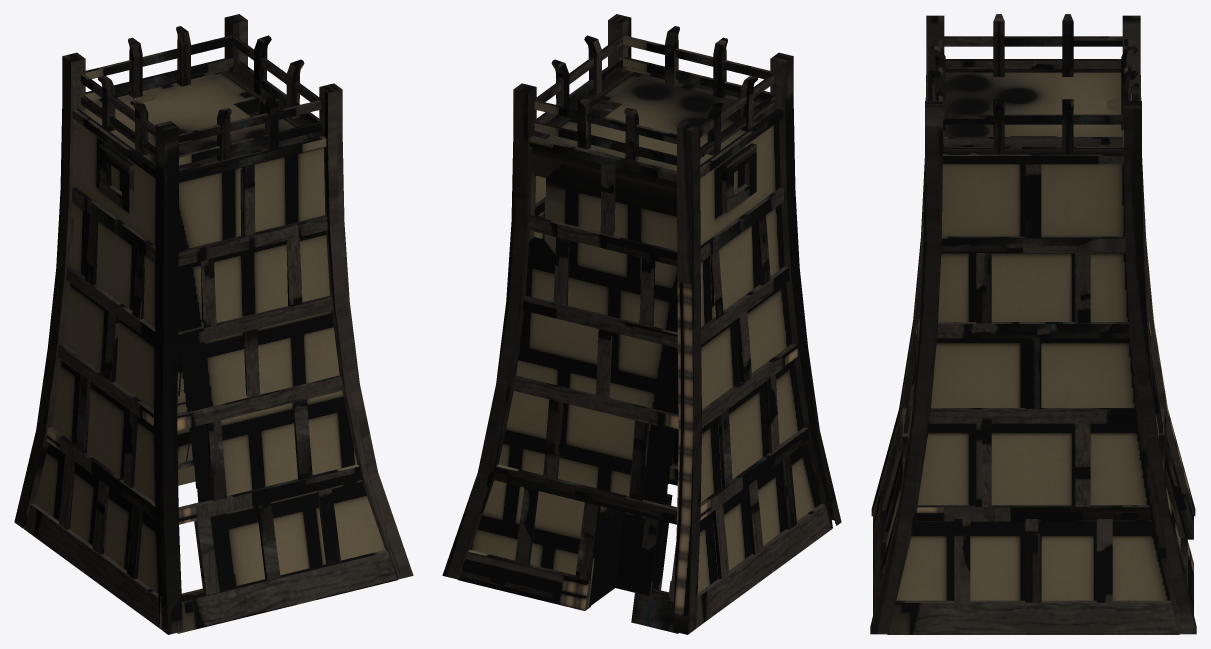
The model's file is MS_Windmill7.fbx.
3 renders of one model, left to right at view 1: azimuth 30°, elevation 25°; view 2: azimuth 150°, elevation 25°; view 3: azimuth 270°, elevation 25°, orthographic. The views are drawn at different scales.
Parts seen in each view (by area): view 1: Cube.005; view 2: Cube.005; view 3: Cube.005.
Part boxes in pixels (box(x1,y1,x2,y2)): Cube.005: box(14, 14, 413, 634); Cube.005: box(442, 14, 841, 634); Cube.005: box(870, 14, 1196, 634).
Size of the model in its own units: 760 by 1439 by 835.
1 material, 1 textured.
